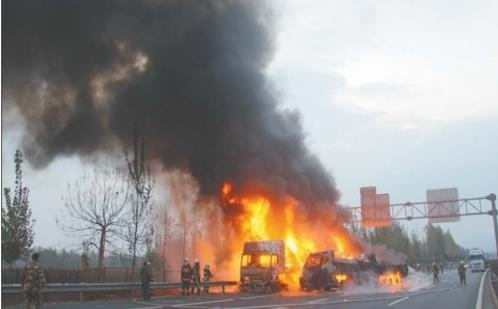fire: (215, 186, 356, 292), (378, 266, 403, 286)
